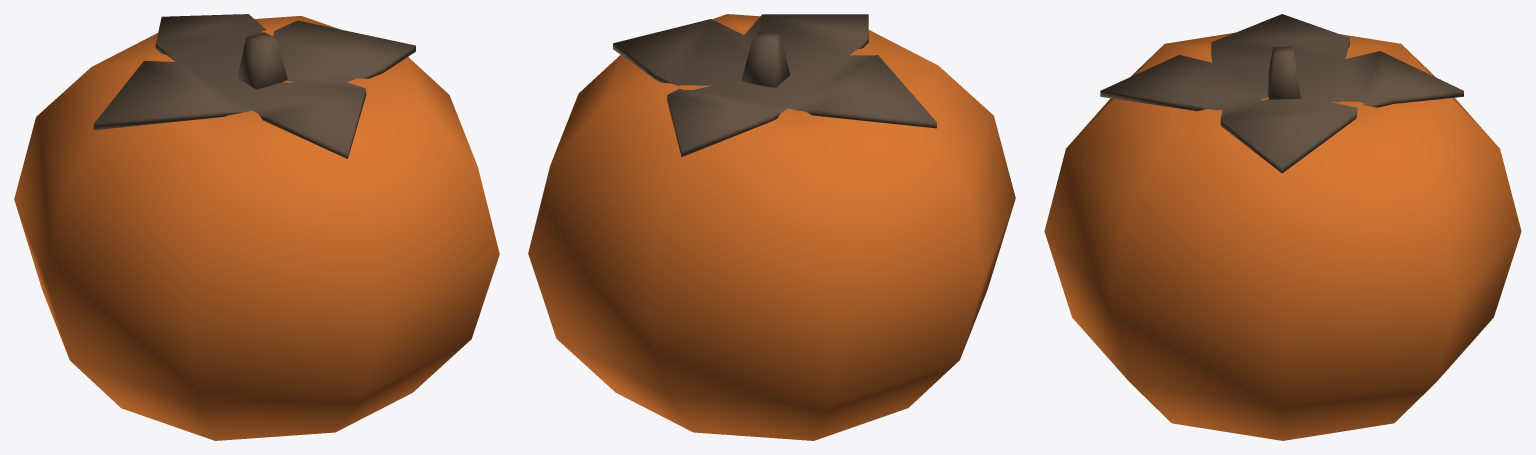
The model's file is green_16.glb.
3 renders of one model, left to right at view 1: azimuth 30°, elevation 25°; view 2: azimuth 150°, elevation 25°; view 3: azimuth 270°, elevation 25°, orthographic. The views are drawn at different scales.
Visible parts, largest first — view 1: green_16; view 2: green_16; view 3: green_16.
Boxes of the visible parts, bbox=[...] form: green_16: bbox=[14, 14, 499, 440]; green_16: bbox=[528, 14, 1015, 440]; green_16: bbox=[1044, 14, 1521, 440].
Size of the model in its own units: 0.1663 by 0.1304 by 0.1663.
Materials: 1 (1 with a texture image).
